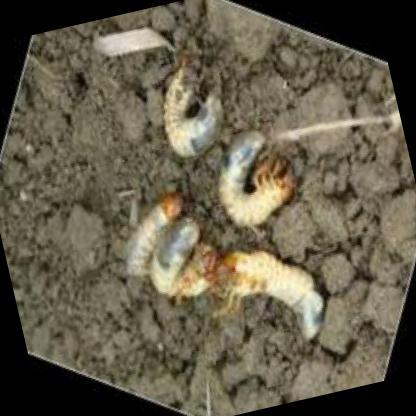root grubs: (221, 132, 297, 224), (166, 60, 224, 157)
